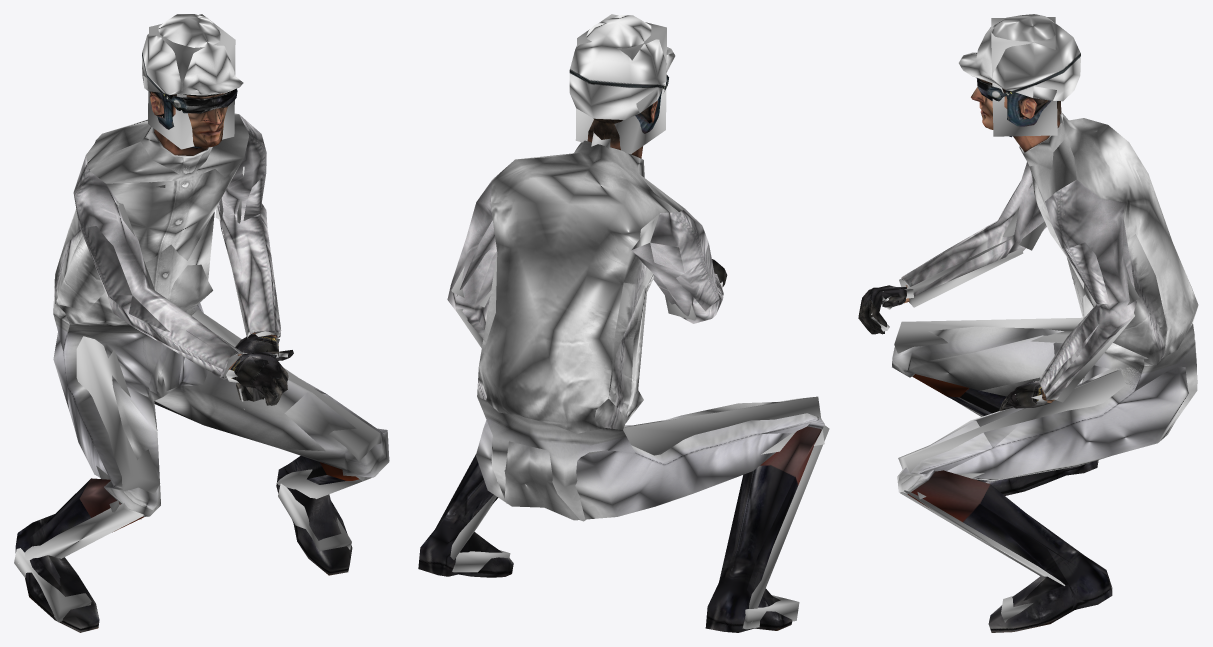
The model's file is jockey.obj.
3 views of the same model, side by side, from view 1: azimuth 30°, elevation 25°; view 2: azimuth 150°, elevation 25°; view 3: azimuth 270°, elevation 25° (orthographic). The views are drawn at different scales.
Parts seen in each view (by area): view 1: jockey_body, jockey_LOD, Base_HumanRThigh, Base_HumanHead, Base_HumanRCalf, Base_HumanLThigh, Base_HumanRFoot, Base_HumanLFoot, Base_HumanLCalf; view 2: jockey_body, jockey_LOD, Base_HumanRThigh, Base_HumanHead, Base_HumanRCalf, Base_HumanRFoot, Base_HumanLFoot, Base_HumanLCalf; view 3: jockey_body, jockey_LOD, Base_HumanLThigh, Base_HumanRThigh, Base_HumanHead, Base_HumanRForearm, Base_HumanLCalf, Base_HumanLForearm, Base_HumanRUpperarm.
Boxes of the visible parts, x1,y1,x2,y2 form: jockey_body: (15,14,389,632); jockey_LOD: (30,76,347,585); Base_HumanRThigh: (76,336,160,519); Base_HumanHead: (148,14,235,149); Base_HumanRCalf: (18,503,143,563); Base_HumanLThigh: (192,309,381,480); Base_HumanRFoot: (14,548,91,622); Base_HumanLFoot: (278,483,351,552); Base_HumanLCalf: (277,460,389,498); jockey_body: (418,15,824,632); jockey_LOD: (439,87,820,632); Base_HumanRThigh: (623,396,824,455); Base_HumanHead: (575,14,666,154); Base_HumanRCalf: (749,425,829,622); Base_HumanRFoot: (742,595,799,629); Base_HumanLFoot: (452,550,510,572); Base_HumanLCalf: (450,495,496,559); jockey_body: (858,14,1198,632); jockey_LOD: (861,83,1197,610); Base_HumanLThigh: (898,370,1126,499); Base_HumanRThigh: (894,317,1082,353); Base_HumanHead: (991,17,1057,136); Base_HumanRForearm: (899,237,1023,307); Base_HumanLCalf: (900,490,1065,585); Base_HumanLForearm: (1039,313,1134,402); Base_HumanRUpperarm: (1003,182,1045,250).
Size of the model in its own units: 0.7448 by 1.28 by 0.7156.
